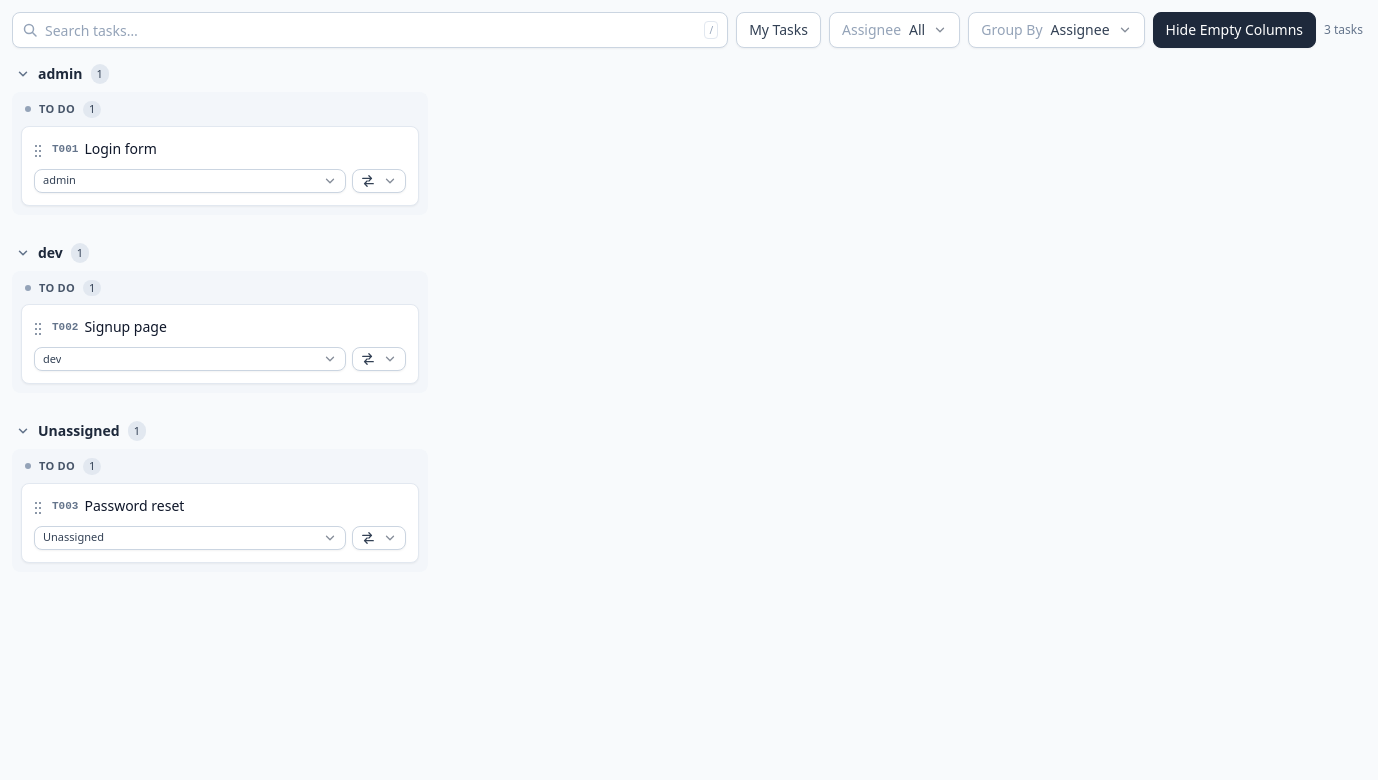
Test: TaskBoard filters, lanes and drawer › hides a lane's empty columns on request, and keeps the choice past Clear
The width and height of the screenshot is (1378, 780).
Expected: the button "Signup page" is shown, [84,317,406,336]
Expected: the element named "dev — To Do, 1 task" is shown, [12,270,428,393]
What coordinates should you click on to do the following:
click the button "Hide Empty Columns"
I would click on:
 (1234, 30)
Its box is [1153,12,1316,48].
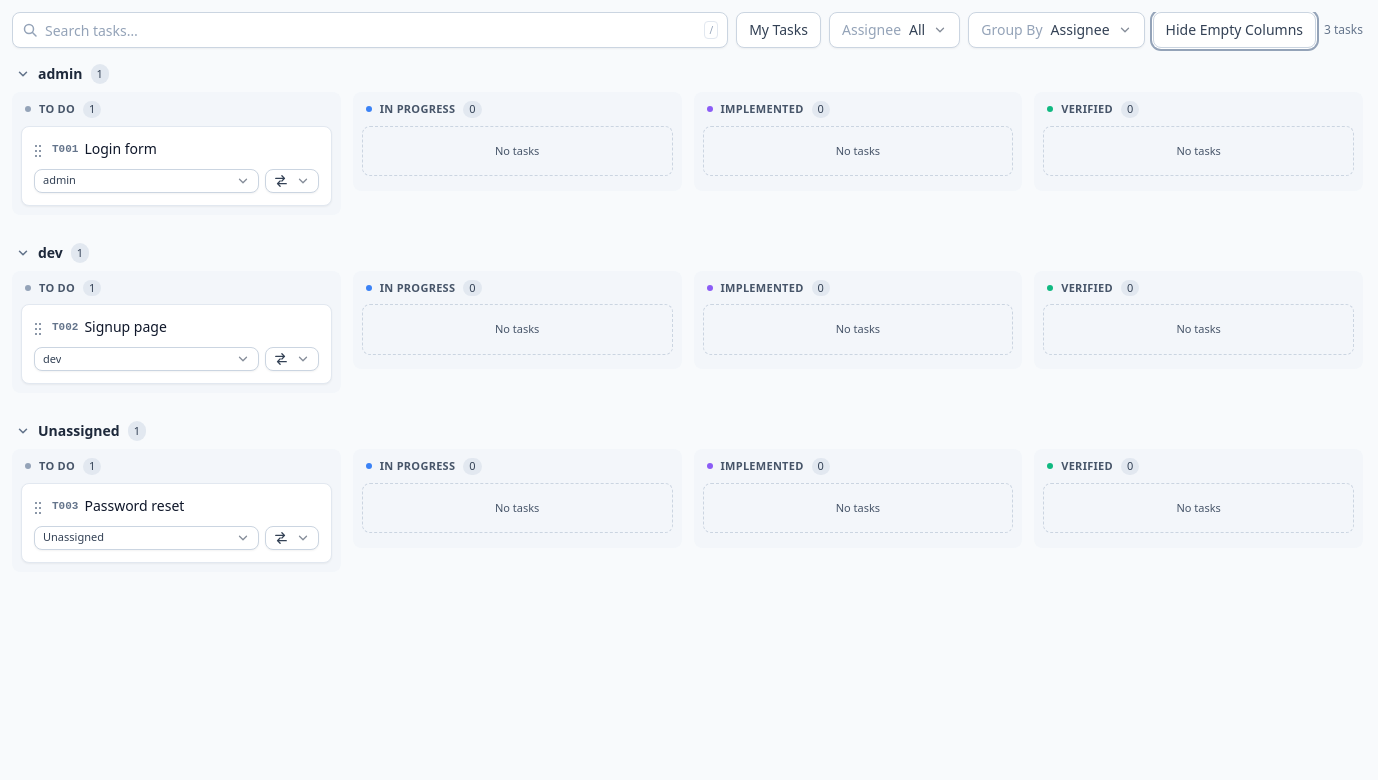
Now the element named "dev — In Progress, 0 tasks" is shown, box [353,270,682,369]
